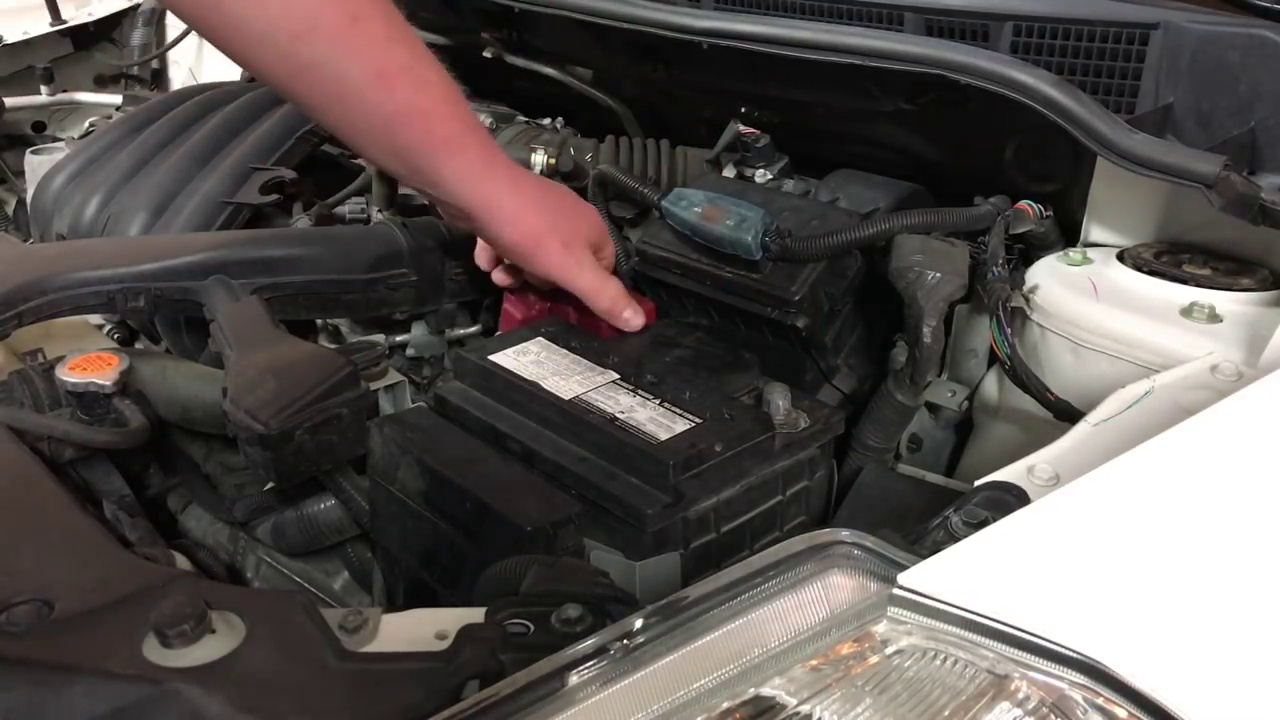battery: (452, 308, 831, 466)
neg_disconnected: (739, 359, 824, 450)
pos_touched: (462, 254, 670, 353)
